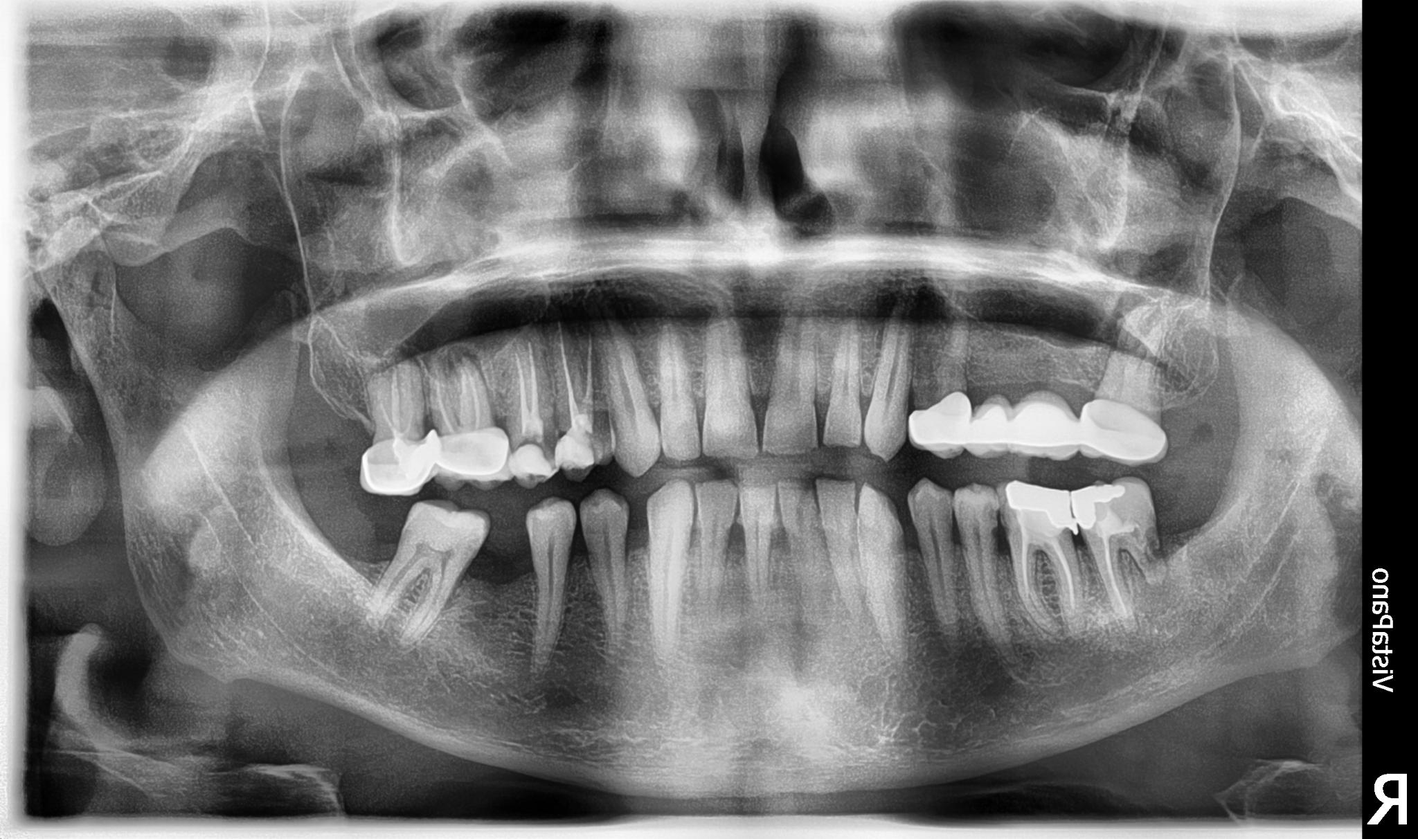Premolars: (492, 213, 1418, 752), (490, 246, 1411, 717), (508, 255, 1418, 731), (604, 350, 1418, 826), (407, 239, 1146, 715), (296, 229, 873, 744), (286, 260, 833, 591), (255, 218, 736, 560)
